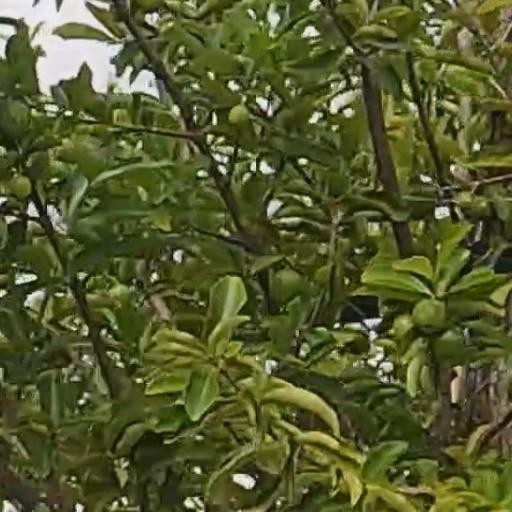acerola: (434, 330, 464, 368), (412, 298, 443, 332)
